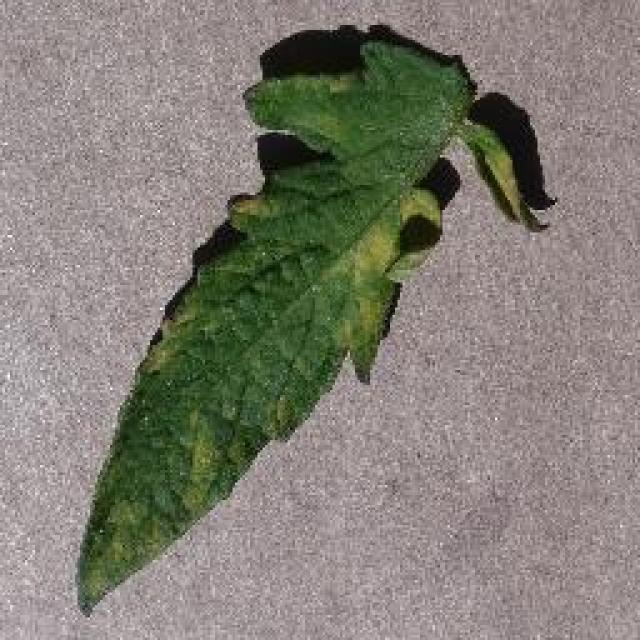Tomato___Leaf_Mold: (80, 26, 542, 608)
